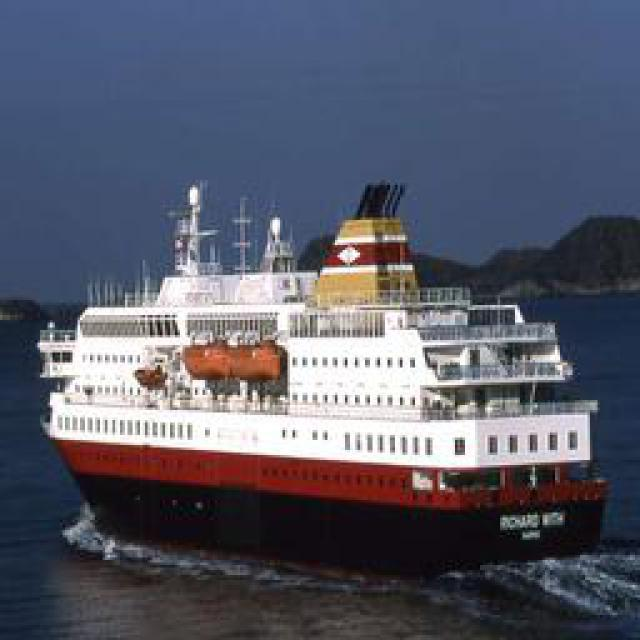Ship: (43, 181, 618, 574)
